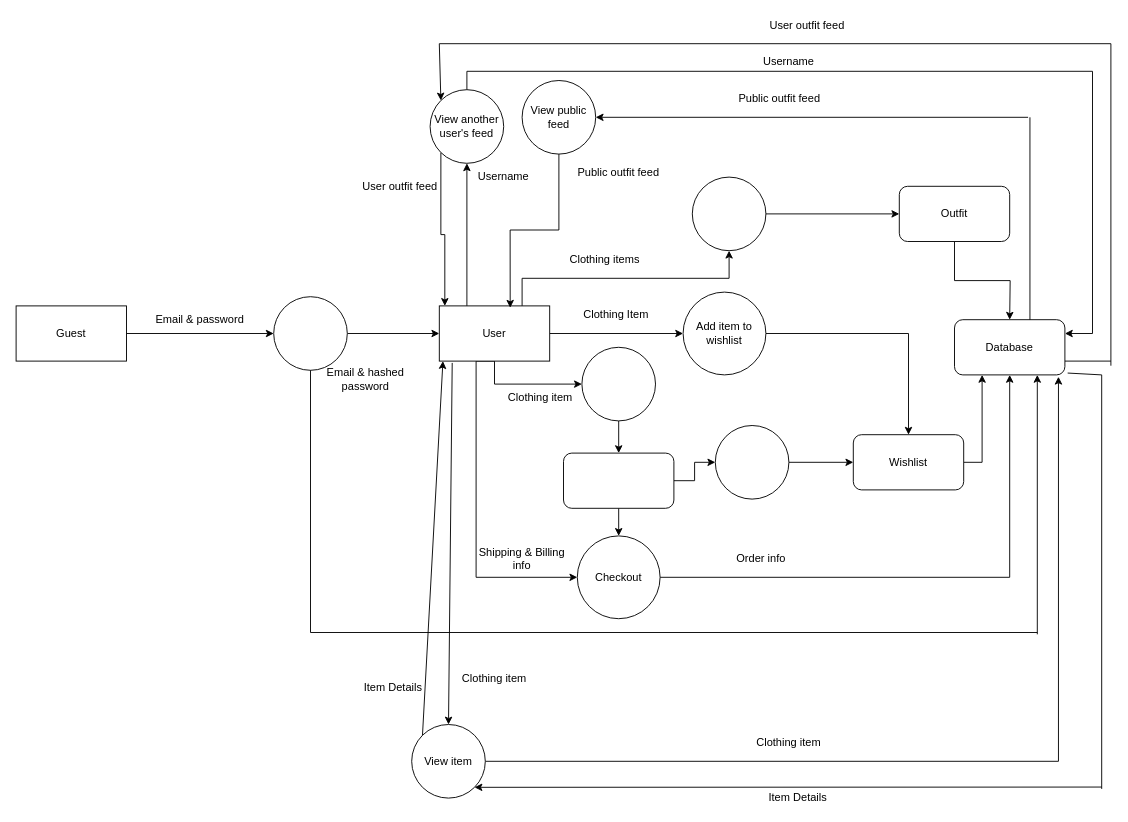
Some shapes in this 1128 by 822 pixel diagram are drawn without their labels. The centre of each missing label's shape, as x and y in pixels:
Add Item to cart: point (618, 383)
Cart: point (618, 480)
Create new outfit: point (728, 213)
Move cart to wishlist: point (751, 462)
Register or Sign in: point (310, 333)
